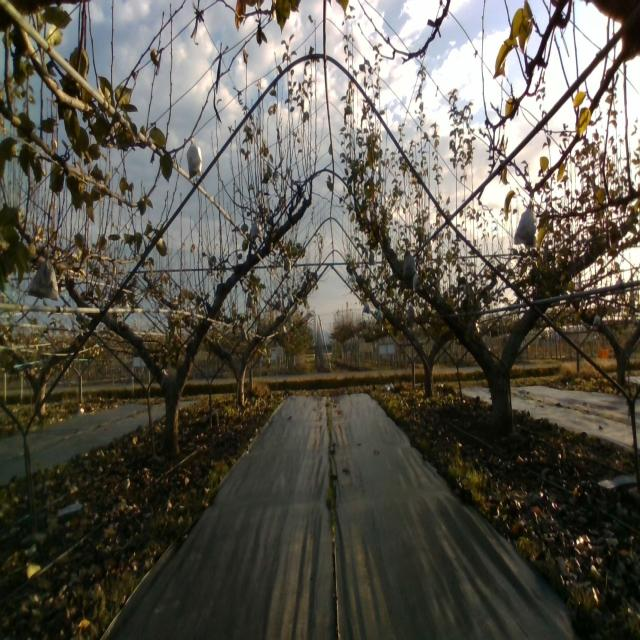pearbags: (514, 199, 534, 247), (186, 136, 202, 180), (248, 215, 264, 242), (402, 251, 415, 277)
